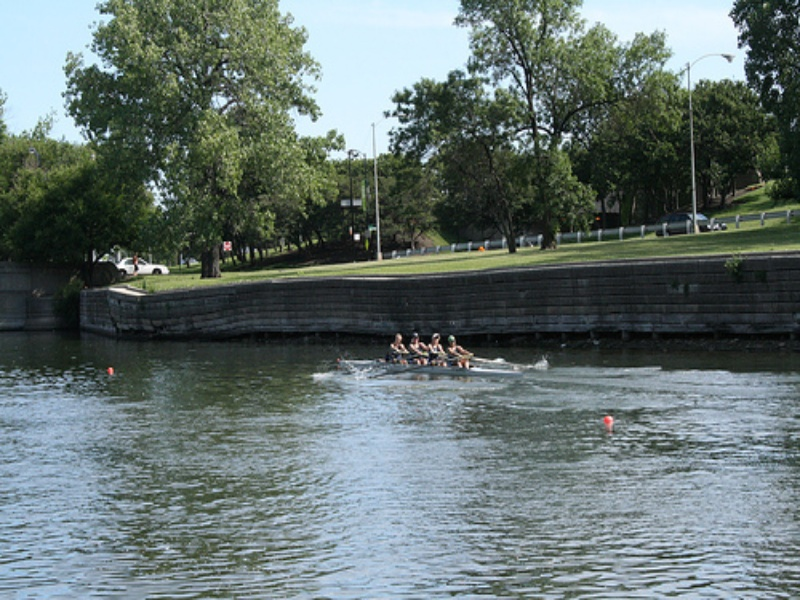car: (656, 212, 729, 237), (115, 257, 169, 276)
person: (447, 335, 474, 369), (387, 333, 409, 364), (409, 333, 428, 365), (428, 333, 445, 365)
